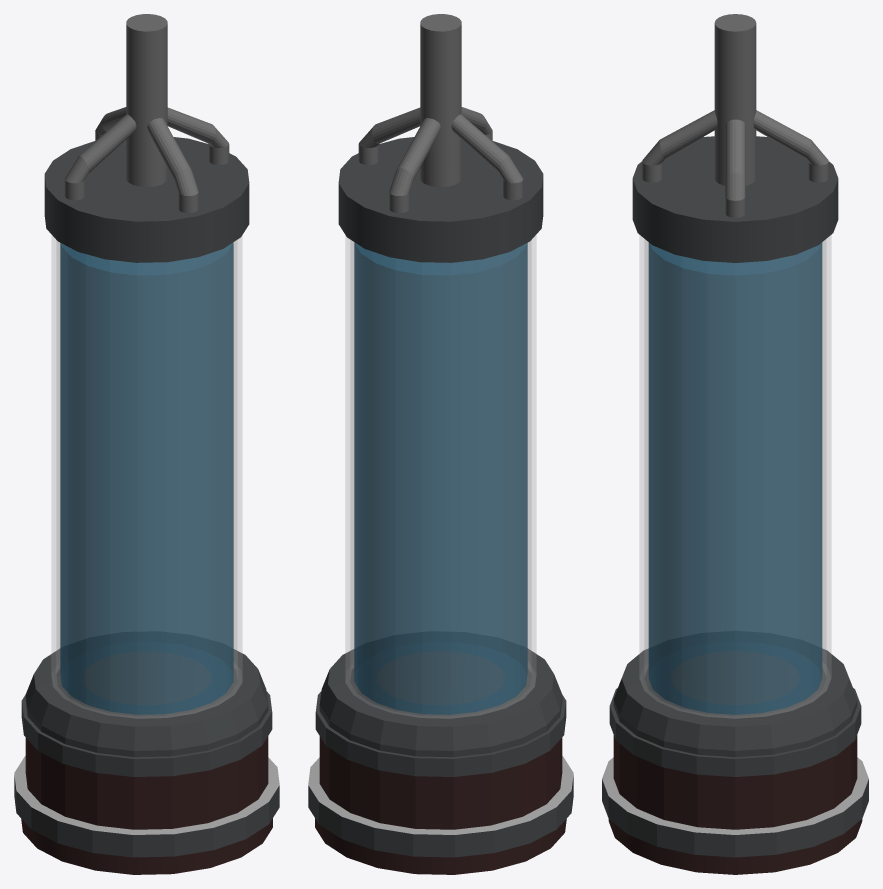
Rendered from Tube_Full.fbx.
3 views of the same model, side by side, from view 1: azimuth 30°, elevation 25°; view 2: azimuth 150°, elevation 25°; view 3: azimuth 270°, elevation 25° (orthographic).
Parts seen in each view (by area): view 1: Glass_Tube, Blue_Liquid, Base, Tube_Top, Pipe_Center, Pipe_02, Pipe_01, Pipe_04; view 2: Glass_Tube, Blue_Liquid, Base, Tube_Top, Pipe_Center, Pipe_02, Pipe_03, Pipe_04; view 3: Glass_Tube, Blue_Liquid, Base, Tube_Top, Pipe_Center, Pipe_04, Pipe_01, Pipe_03.
Boxes of the visible parts, bbox=[...] form: Glass_Tube: bbox=[51, 235, 242, 718]; Blue_Liquid: bbox=[60, 242, 233, 714]; Base: bbox=[14, 648, 279, 874]; Tube_Top: bbox=[44, 137, 249, 262]; Pipe_Center: bbox=[126, 14, 167, 186]; Pipe_02: bbox=[64, 114, 136, 200]; Pipe_01: bbox=[147, 118, 198, 212]; Pipe_04: bbox=[167, 107, 229, 164]; Glass_Tube: bbox=[345, 235, 536, 718]; Blue_Liquid: bbox=[354, 242, 527, 714]; Base: bbox=[308, 648, 573, 874]; Tube_Top: bbox=[338, 137, 543, 262]; Pipe_Center: bbox=[420, 14, 461, 186]; Pipe_02: bbox=[451, 114, 523, 200]; Pipe_03: bbox=[389, 118, 440, 212]; Pipe_04: bbox=[358, 107, 420, 164]; Glass_Tube: bbox=[639, 235, 831, 718]; Blue_Liquid: bbox=[648, 243, 822, 714]; Base: bbox=[602, 648, 868, 874]; Tube_Top: bbox=[632, 136, 838, 262]; Pipe_Center: bbox=[714, 14, 756, 185]; Pipe_04: bbox=[725, 119, 745, 217]; Pipe_01: bbox=[642, 110, 717, 182]; Pipe_03: bbox=[753, 110, 828, 182].
Size of the model in its own units: 101 by 332 by 101.
